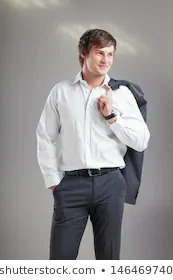F_dress pants: (49, 172, 125, 260)
F_shirt: (23, 71, 149, 178)
F_tie: (60, 166, 124, 177)
